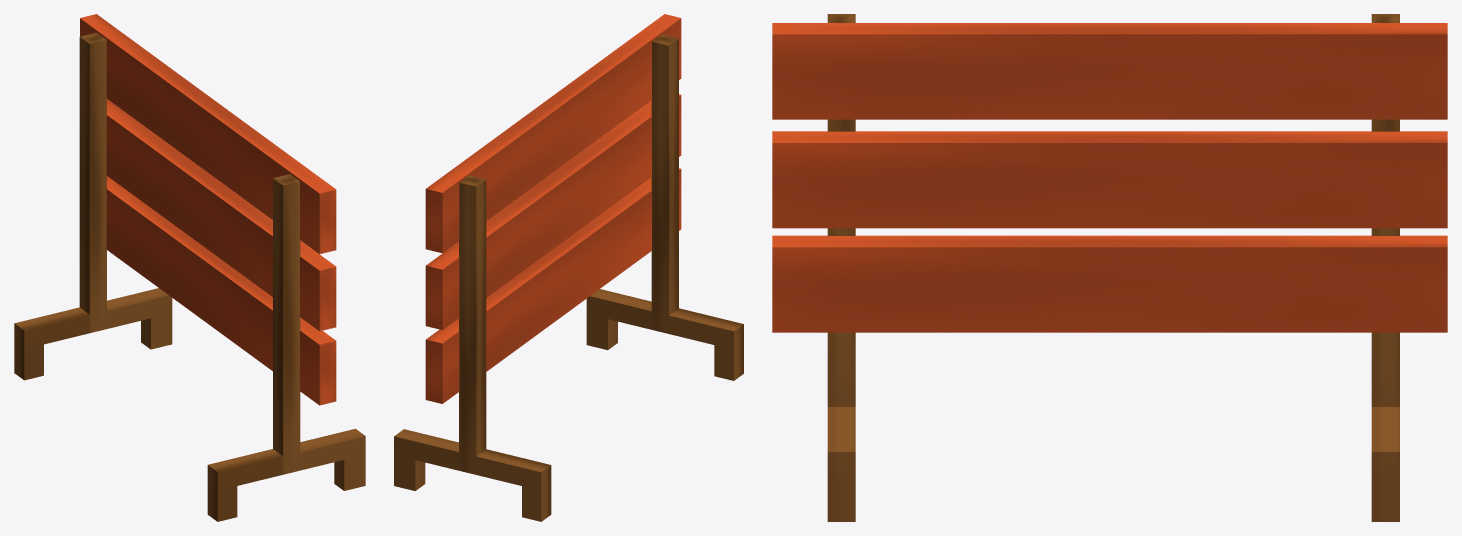
The model's file is barricade2.fbx.
3 views of the same model, side by side, from view 1: azimuth 30°, elevation 25°; view 2: azimuth 150°, elevation 25°; view 3: azimuth 270°, elevation 25° (orthographic). The views are drawn at different scales.
Parts seen in each view (by area): view 1: Cube.002, Cube.003, Cube.004, Cube, Cube.001; view 2: Cube.002, Cube.003, Cube.004, Cube, Cube.001; view 3: Cube.003, Cube.004, Cube.002, Cube, Cube.001.
Boxes of the visible parts, bbox=[...] form: Cube.002: bbox=[80, 14, 336, 254]; Cube.003: bbox=[106, 99, 336, 331]; Cube.004: bbox=[106, 176, 336, 405]; Cube: bbox=[14, 32, 172, 380]; Cube.001: bbox=[207, 174, 365, 521]; Cube.002: bbox=[425, 14, 681, 253]; Cube.003: bbox=[425, 94, 681, 329]; Cube.004: bbox=[425, 168, 681, 403]; Cube: bbox=[394, 175, 551, 521]; Cube.001: bbox=[586, 34, 743, 380]; Cube.003: bbox=[772, 131, 1447, 228]; Cube.004: bbox=[772, 235, 1447, 332]; Cube.002: bbox=[772, 23, 1447, 119]; Cube: bbox=[1371, 14, 1399, 521]; Cube.001: bbox=[827, 14, 855, 521].
Size of the model in its own units: 389 by 810 by 1091.
